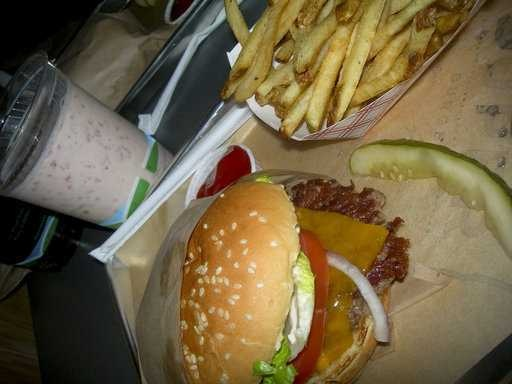hamburger: (164, 158, 402, 379)
